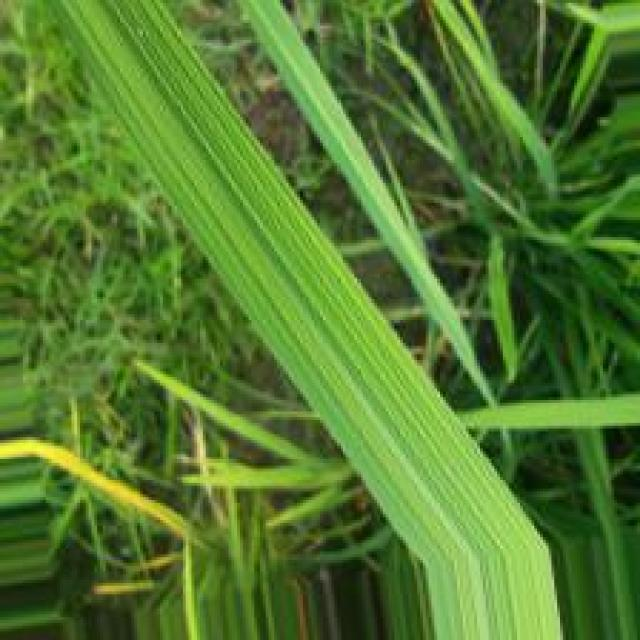HealthyLeaf: (54, 3, 436, 545)
